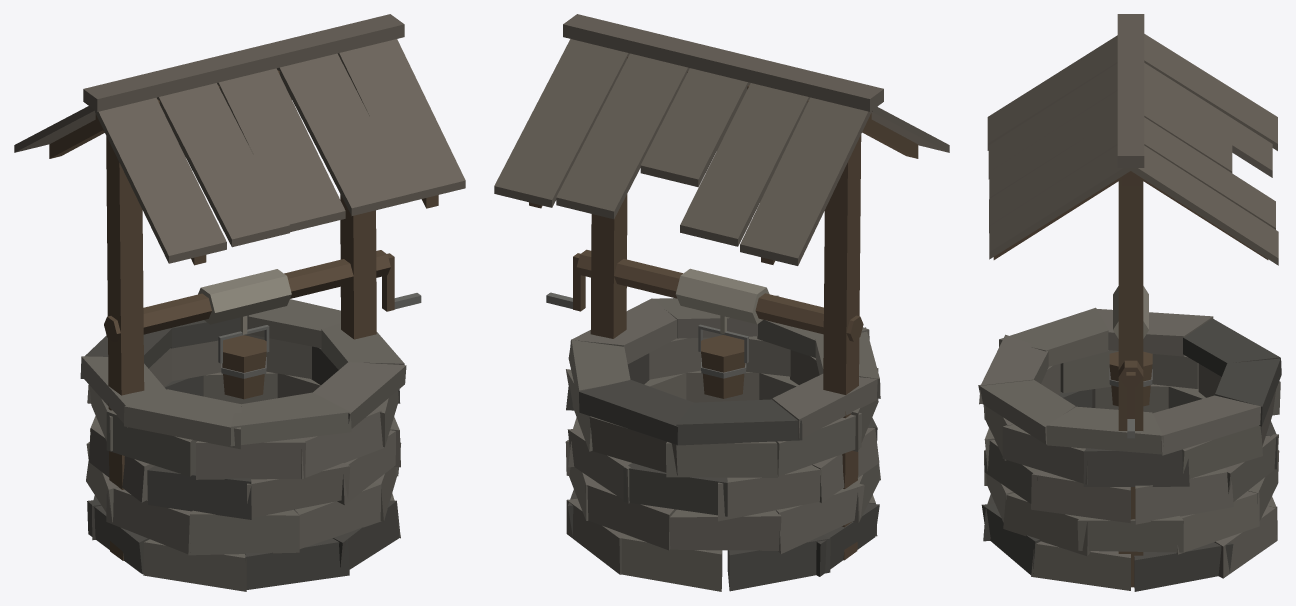
The model's file is well.glb.
The picture shows the model from 3 angles, left to right: view 1: azimuth 30°, elevation 25°; view 2: azimuth 150°, elevation 25°; view 3: azimuth 270°, elevation 25°; orthographic projection. The views are drawn at different scales.
Visible parts, largest first — view 1: Well; view 2: Well; view 3: Well.
Boxes of the visible parts, x1,y1,x2,y2 form: Well: (14, 14, 465, 591); Well: (494, 14, 949, 591); Well: (978, 14, 1281, 591).
Size of the model in its own units: 1.88 by 2.56 by 1.59.
